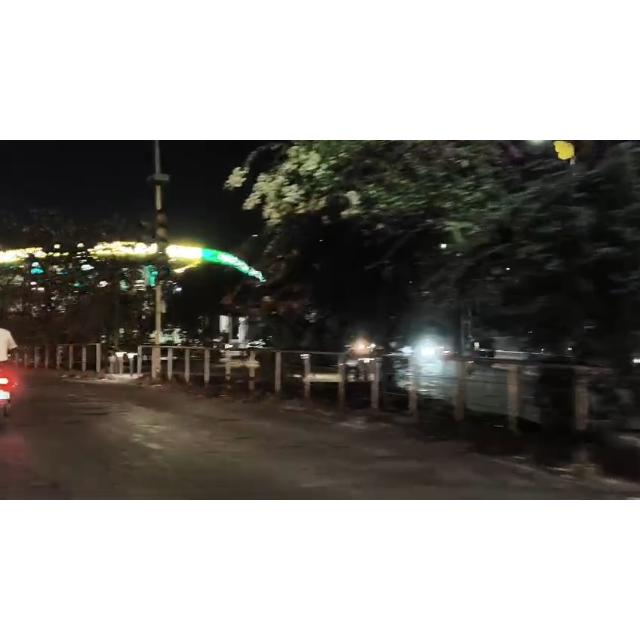auto: (470, 335, 498, 368)
car: (151, 327, 200, 351)
